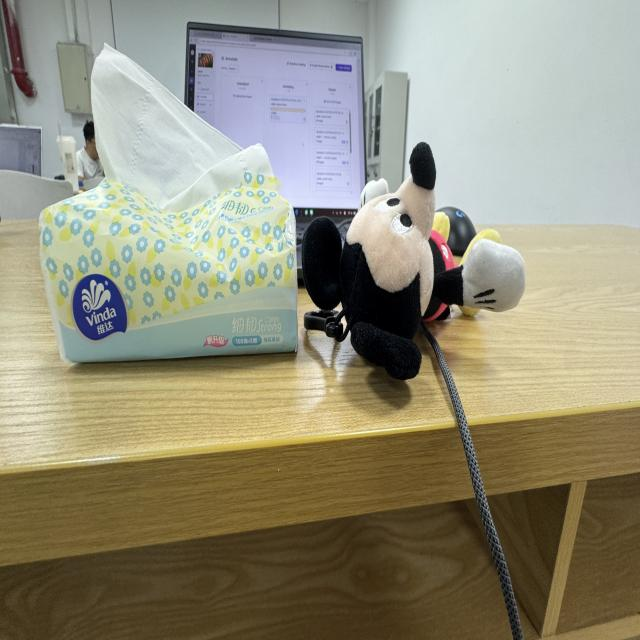mickey: (303, 143, 524, 379)
tissue: (38, 42, 298, 363)
